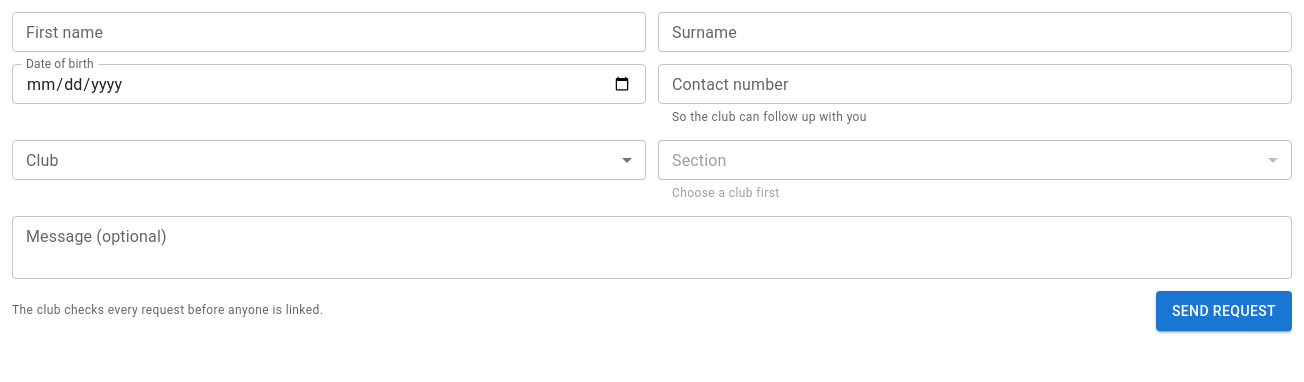
Test: LinkRequestForm › shows a message on every missing required field and sends nothing
Expected: the 1st dropdown named "Club" is shown, [12,140,646,180]
Click the button "Send request" at (1224, 311), box [1156,291,1292,331]
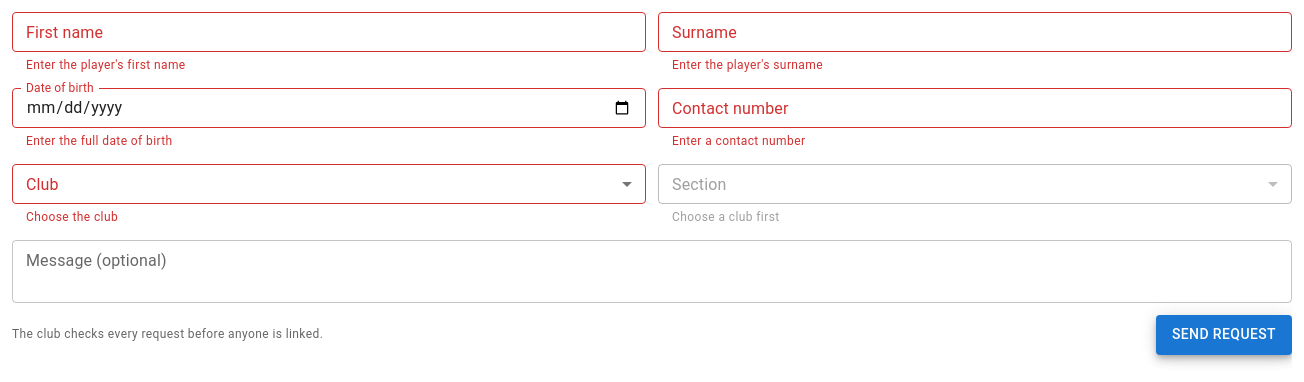
Now the text "Enter the player's first name" is shown, box [26,58,186,72]
Now the text "Enter the player's surname" is shown, box [672,58,823,72]
Now the text "Enter the full date of birth" is shown, box [26,134,173,148]
